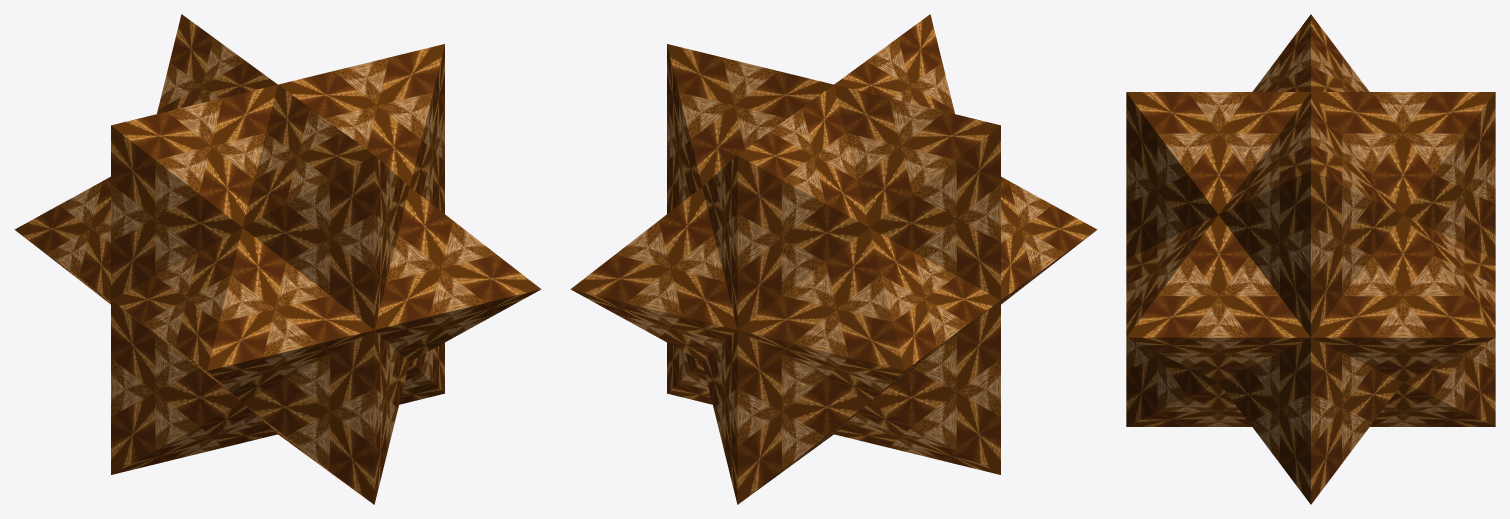
Rendered from 20Escher.obj.
3 views of the same model, side by side, from view 1: azimuth 30°, elevation 25°; view 2: azimuth 150°, elevation 25°; view 3: azimuth 270°, elevation 25° (orthographic). The views are drawn at different scales.
Bounding box in the file's own units: 2 × 2 × 2.
Materials: 1 (1 with a texture image).
